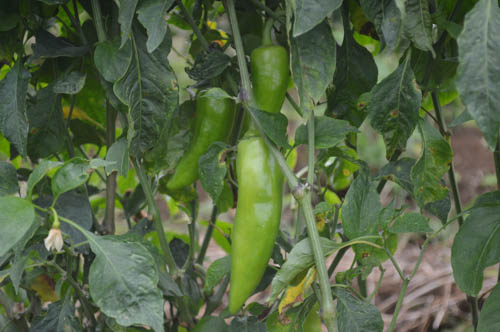ChiliPepper: (228, 136, 283, 316), (169, 88, 231, 196), (247, 46, 292, 120)
